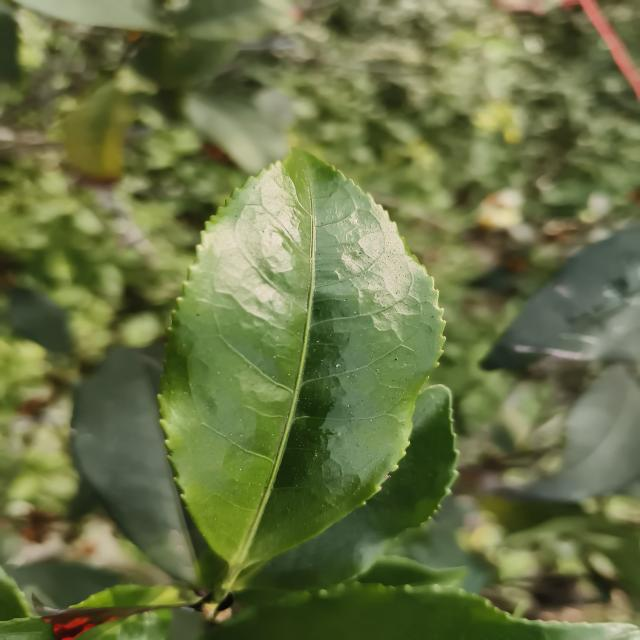Leaf: (159, 151, 442, 589), (245, 385, 457, 589), (71, 346, 198, 584), (206, 583, 640, 640), (482, 226, 640, 369), (516, 365, 640, 502), (184, 93, 289, 175), (62, 81, 134, 182), (172, 0, 294, 40)
